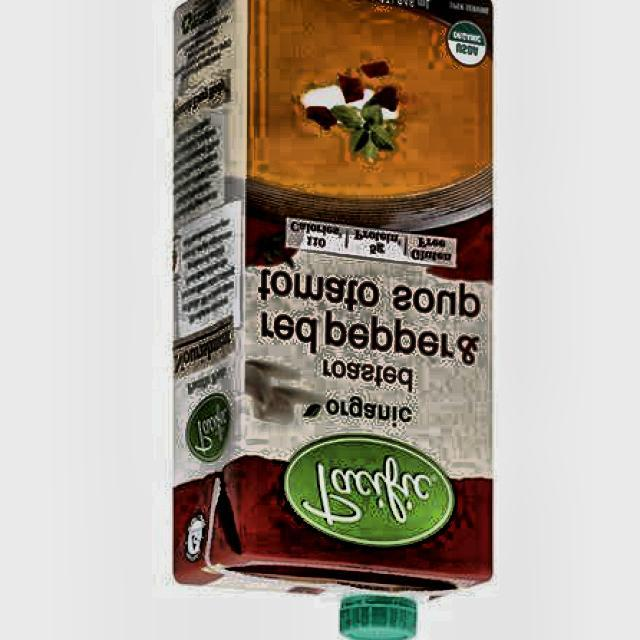cardboard: (170, 0, 494, 613)
